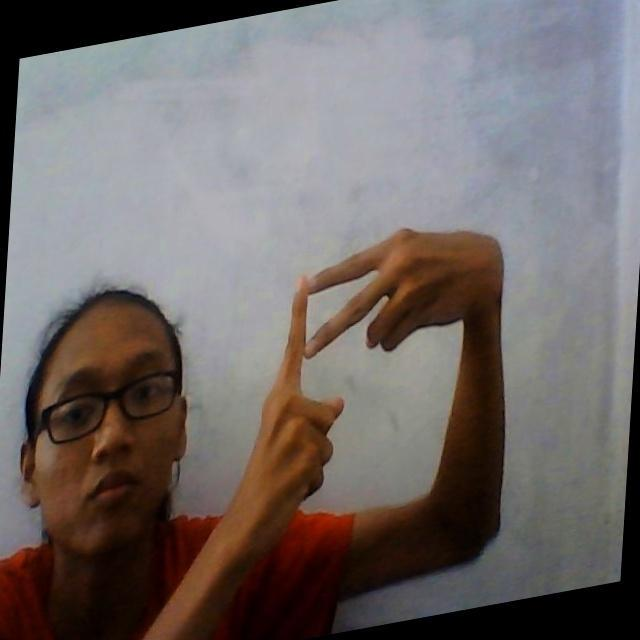P: (266, 234, 406, 480)
